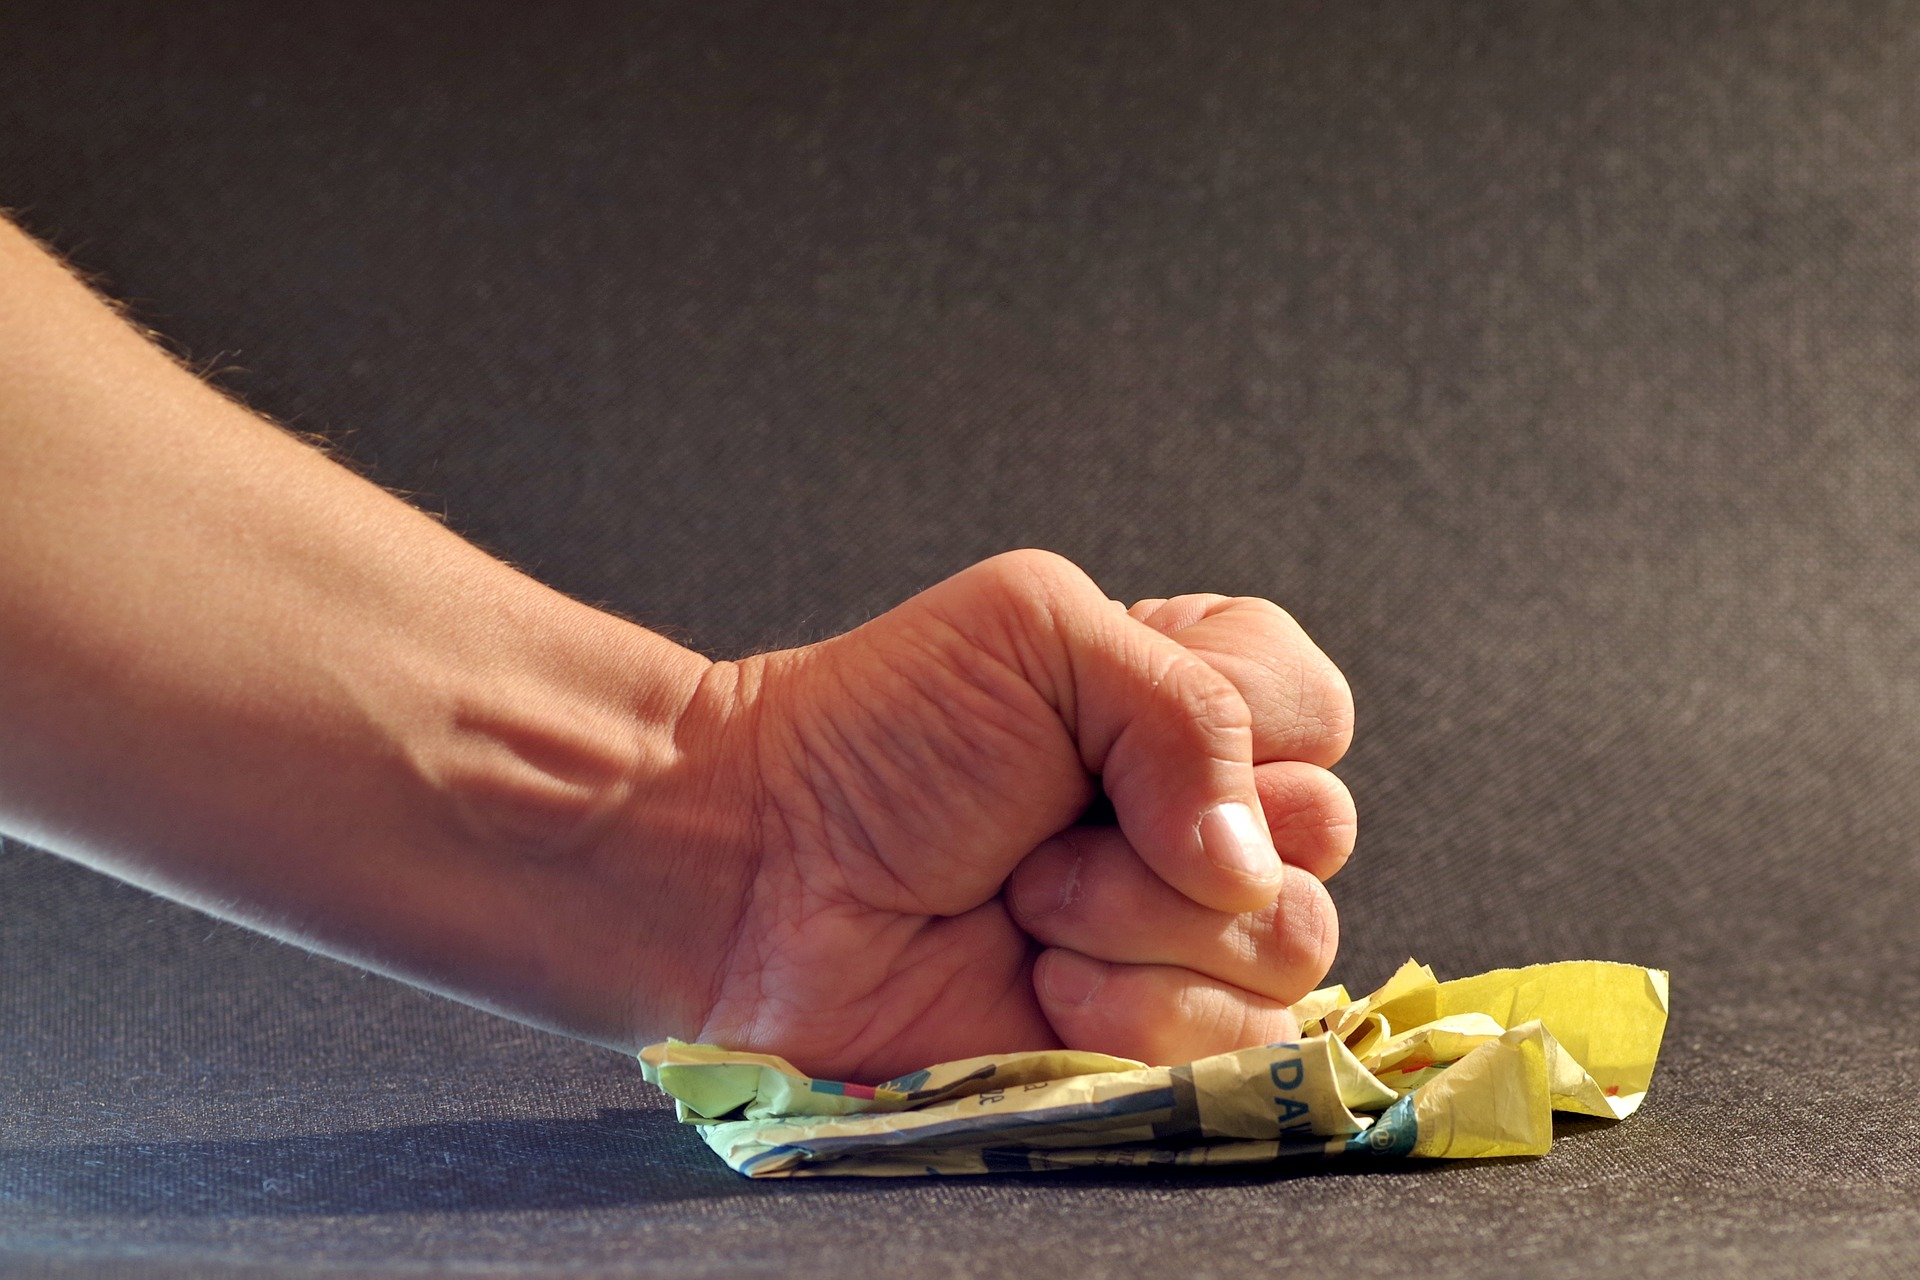fist: (781, 554, 1341, 1091)
